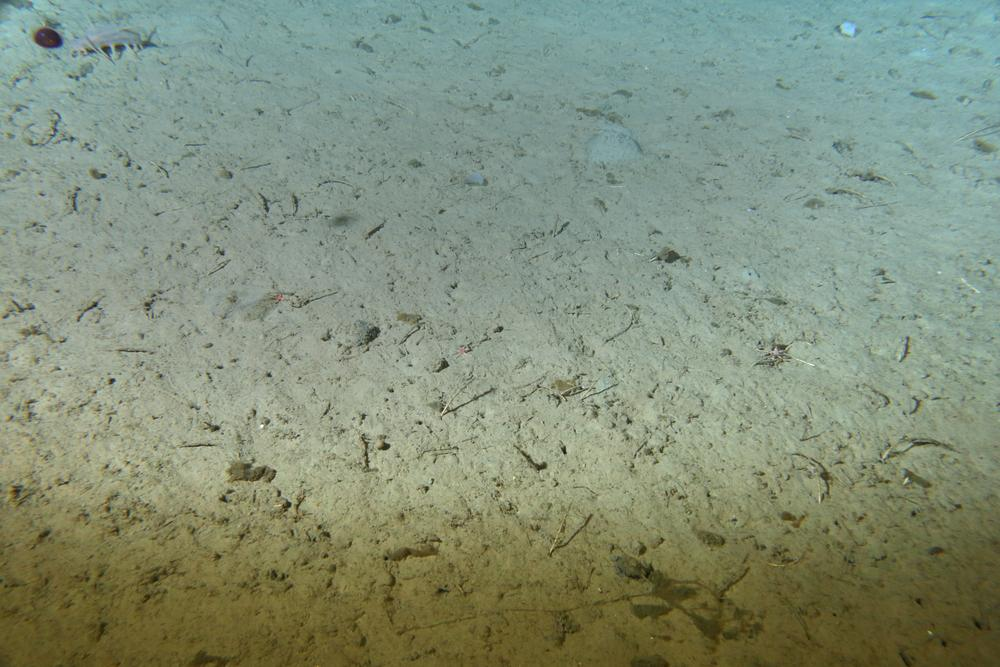Scotoplanes globosa: (67, 16, 149, 66)
